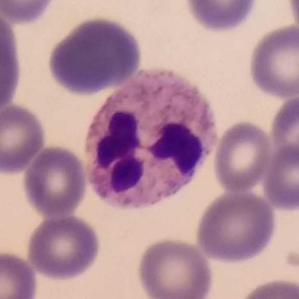Neutrophil: (77, 61, 223, 224)
RBC: (45, 14, 145, 96), (193, 188, 279, 266), (25, 213, 103, 282), (134, 235, 216, 299), (20, 143, 89, 219), (211, 118, 275, 193), (245, 22, 299, 100), (0, 102, 49, 175), (260, 141, 299, 213), (181, 0, 262, 34), (0, 12, 26, 117), (267, 92, 299, 165), (0, 248, 40, 299), (0, 0, 64, 26), (235, 275, 298, 299), (0, 2, 21, 73), (284, 0, 299, 37)
